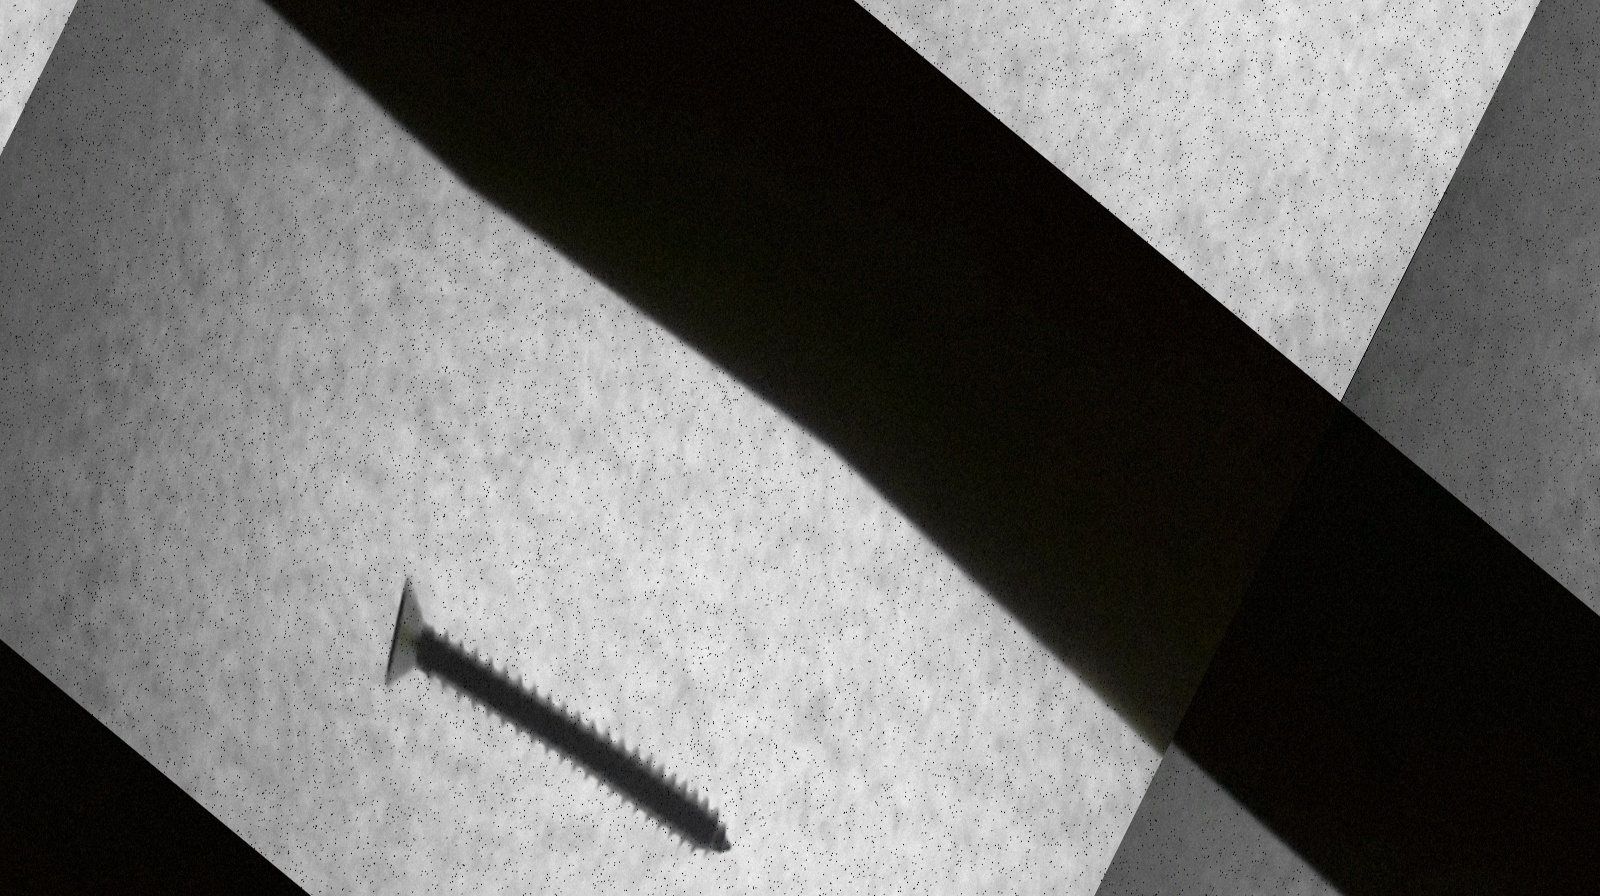S002: (351, 522, 773, 895)
